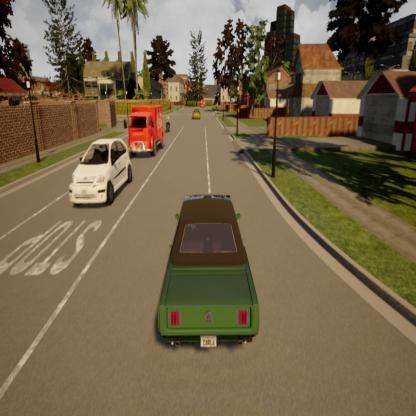Cars: (157, 189, 264, 356), (60, 133, 135, 207), (122, 101, 168, 157), (191, 107, 202, 121)
